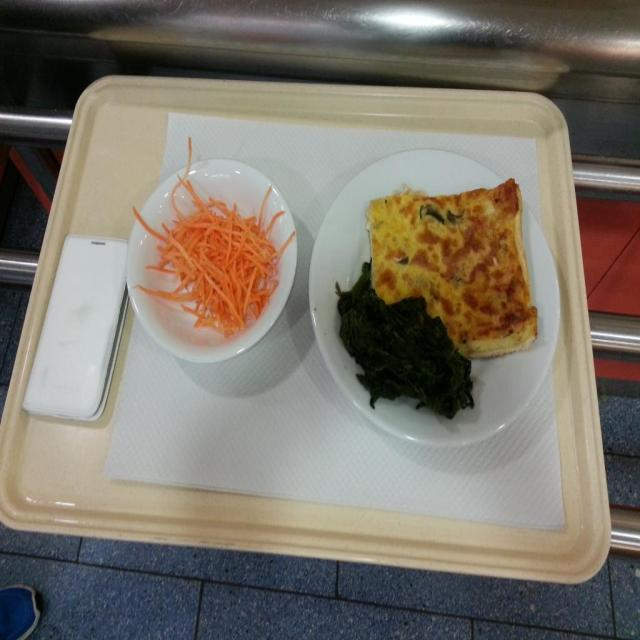plate: (308, 146, 564, 458), (123, 152, 300, 355)
